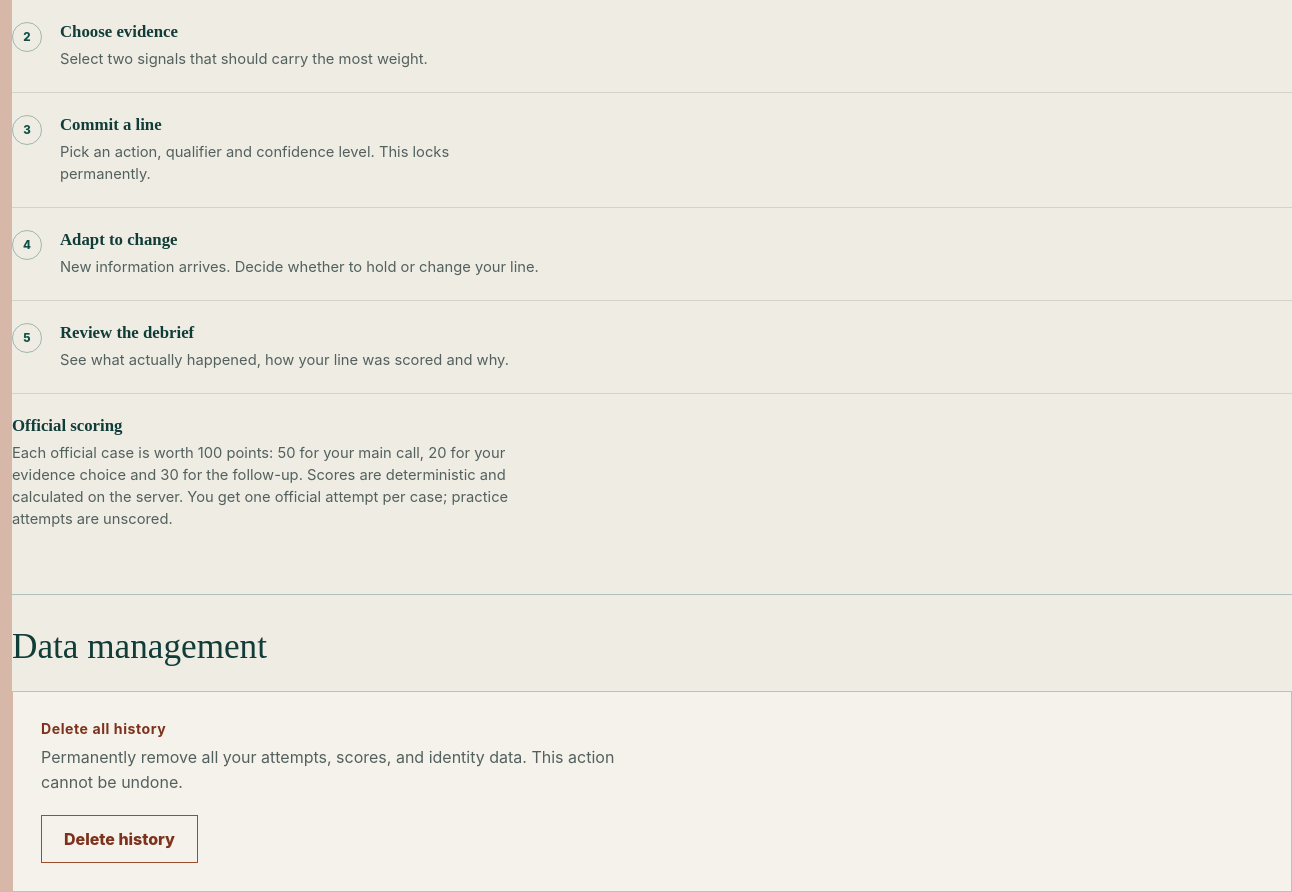
Test: SettingsPage › requires confirmation before deleting history
(page scrolled)
What coordinates should you click on to do the following:
click the button "Delete history"
I would click on:
 (120, 839)
Its box is x1=41 y1=815 x2=198 y2=863.
(page scrolled)
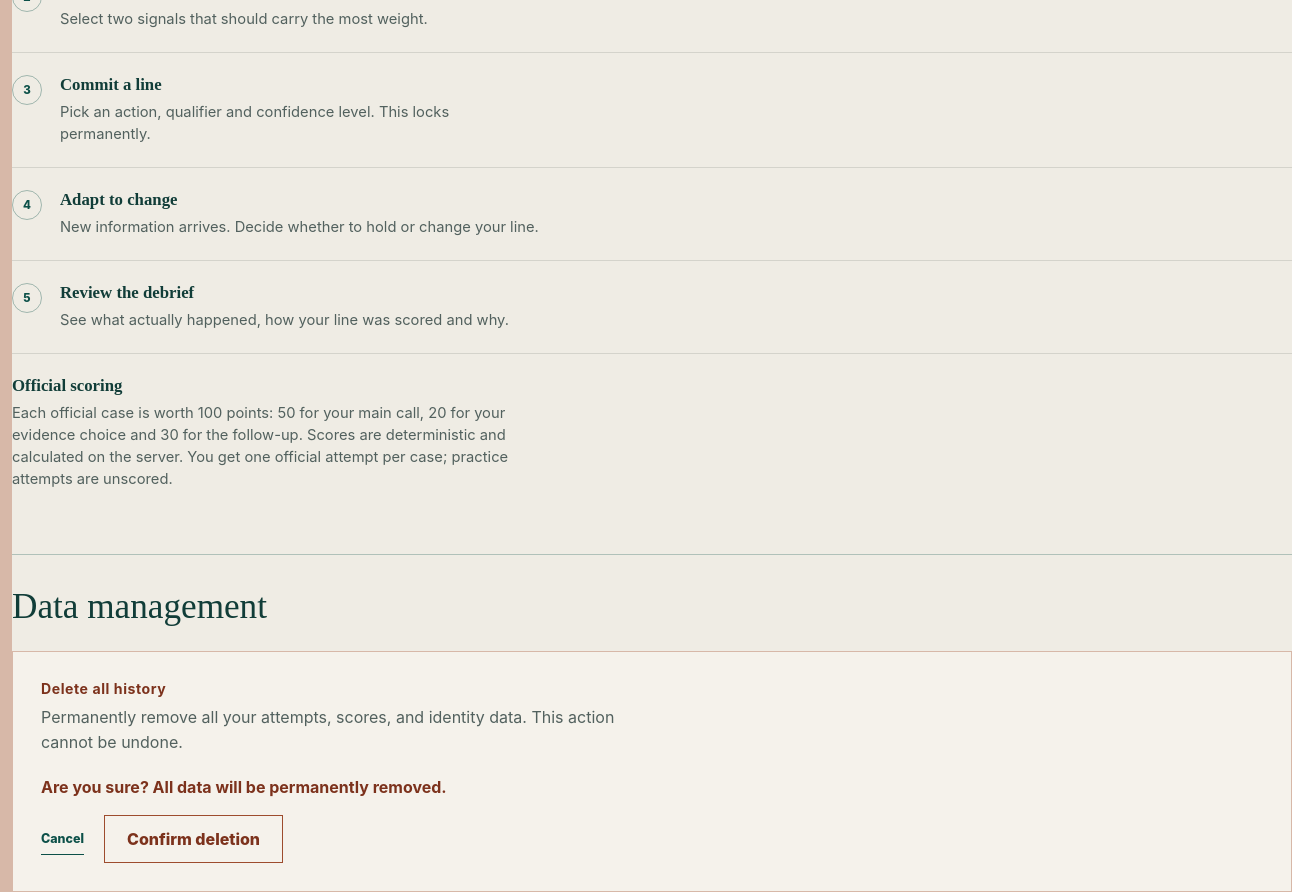
Check: the text "Are you sure? All data will be permanently removed." is shown, box x1=41 y1=777 x2=447 y2=797
Check: the button "Confirm deletion" is shown, box x1=104 y1=815 x2=283 y2=863
Check: the button "Cancel" is shown, box x1=41 y1=823 x2=84 y2=855
